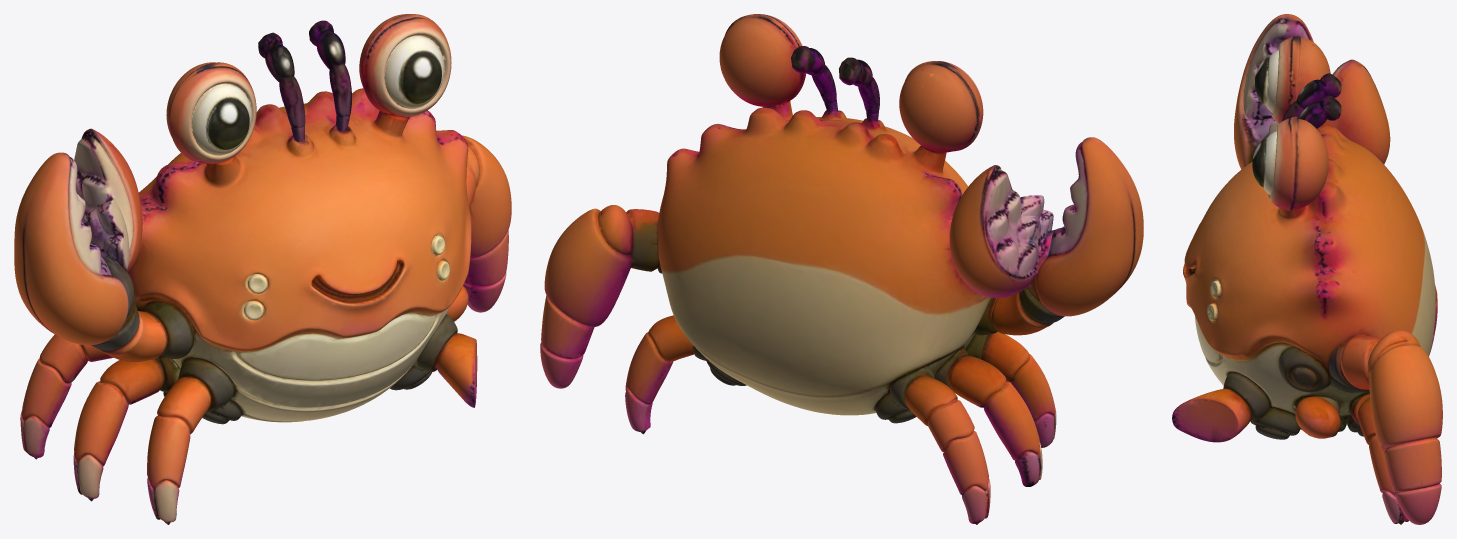
Rendered from claudecode-crab.glb.
3 renders of one model, left to right at view 1: azimuth 30°, elevation 25°; view 2: azimuth 150°, elevation 25°; view 3: azimuth 270°, elevation 25°, orthographic. The views are drawn at different scales.
Visible parts, largest first — view 1: node_0; view 2: node_0; view 3: node_0.
Boxes of the visible parts, x1,y1,x2,y2 form: node_0: [14, 14, 511, 524]; node_0: [540, 14, 1143, 524]; node_0: [1172, 14, 1442, 524].
Size of the model in its own units: 1.01 by 0.7319 by 0.4783.
1 material, 1 textured.
